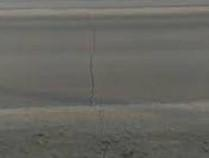crack: (88, 16, 101, 107)
